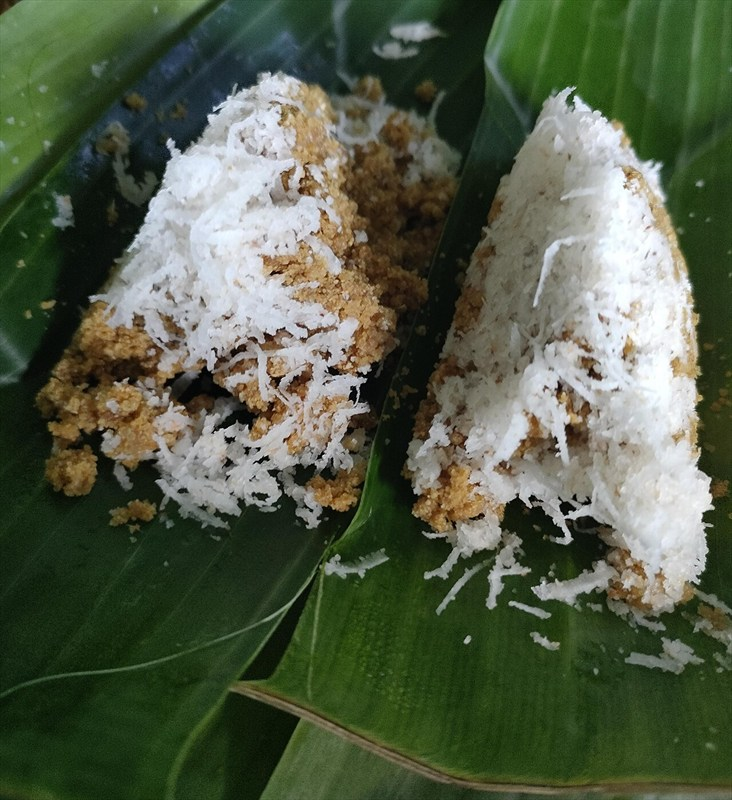Tempe Goreng: (116, 85, 707, 588)
